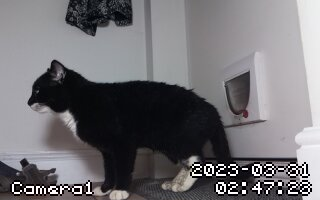bad: (26, 57, 237, 195)
